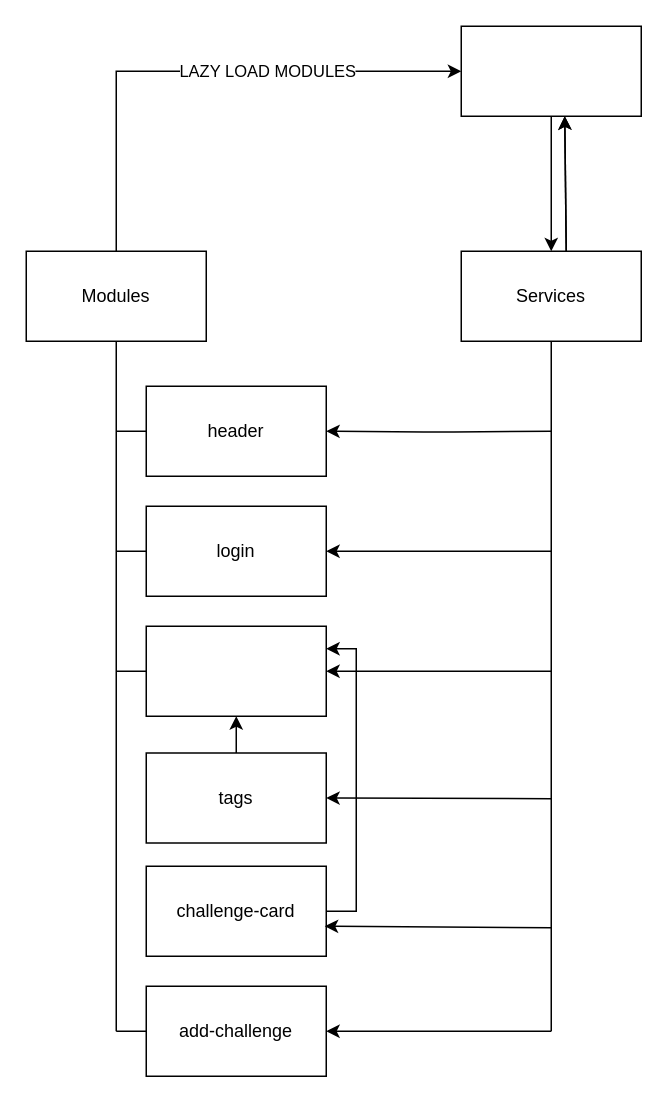
This 668x1103 diagram has some shape labels left out. The shapes that lost their labels are listed below. From the top down, each one's box as (x1, y1, x2, y2) in pixels, then its label:
(460, 25, 641, 116): App
(145, 625, 326, 716): dashboard
